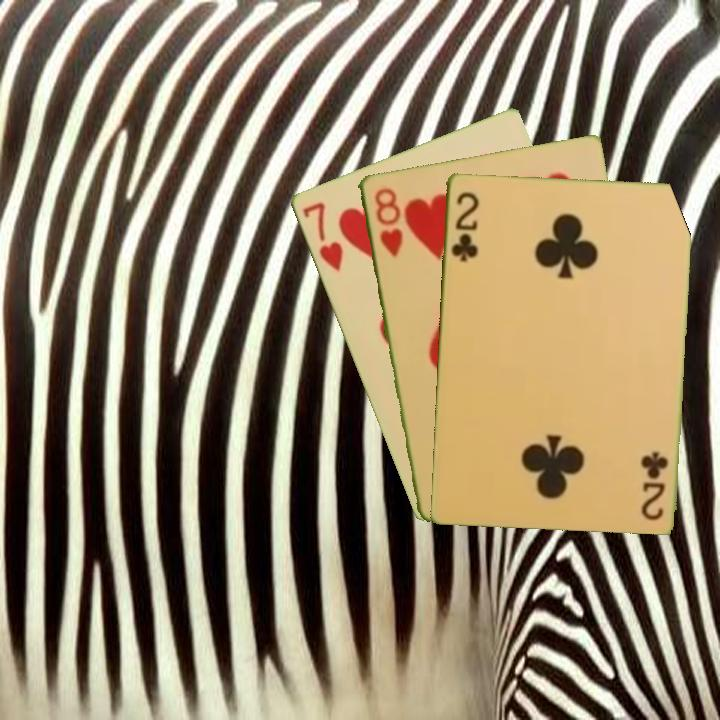2c: (447, 188, 482, 264), (639, 448, 671, 522)
7h: (298, 198, 346, 274)
8h: (370, 183, 405, 259)
